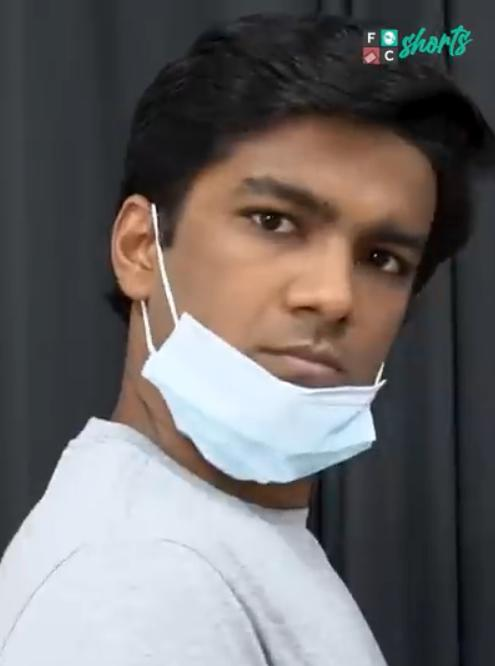with_incorrect_mask: (178, 176, 378, 430)
